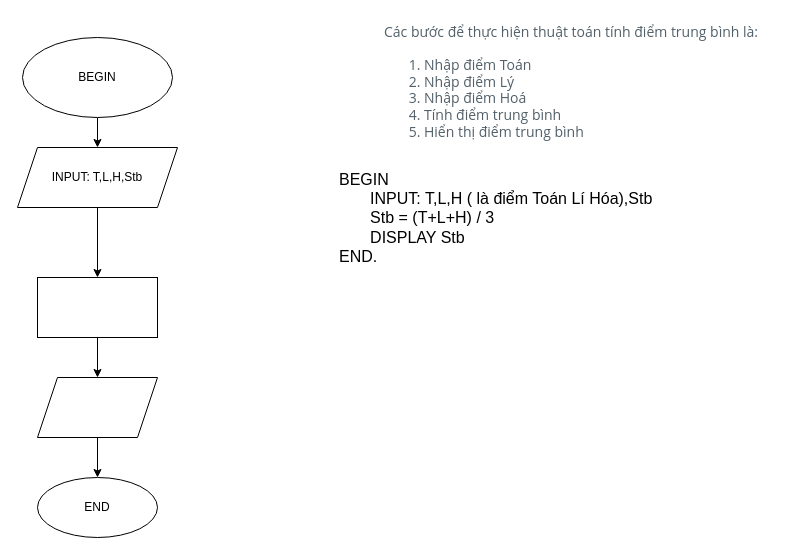
This 790x555 diagram has some shape labels left out. The shapes that lost their labels are listed below. From the top down, each one's centre as x and y in pixels, then its label:
At point 97,307: "Stb = (T+L+H) / 3".
At point 97,407: "DISPLAY Stb".
